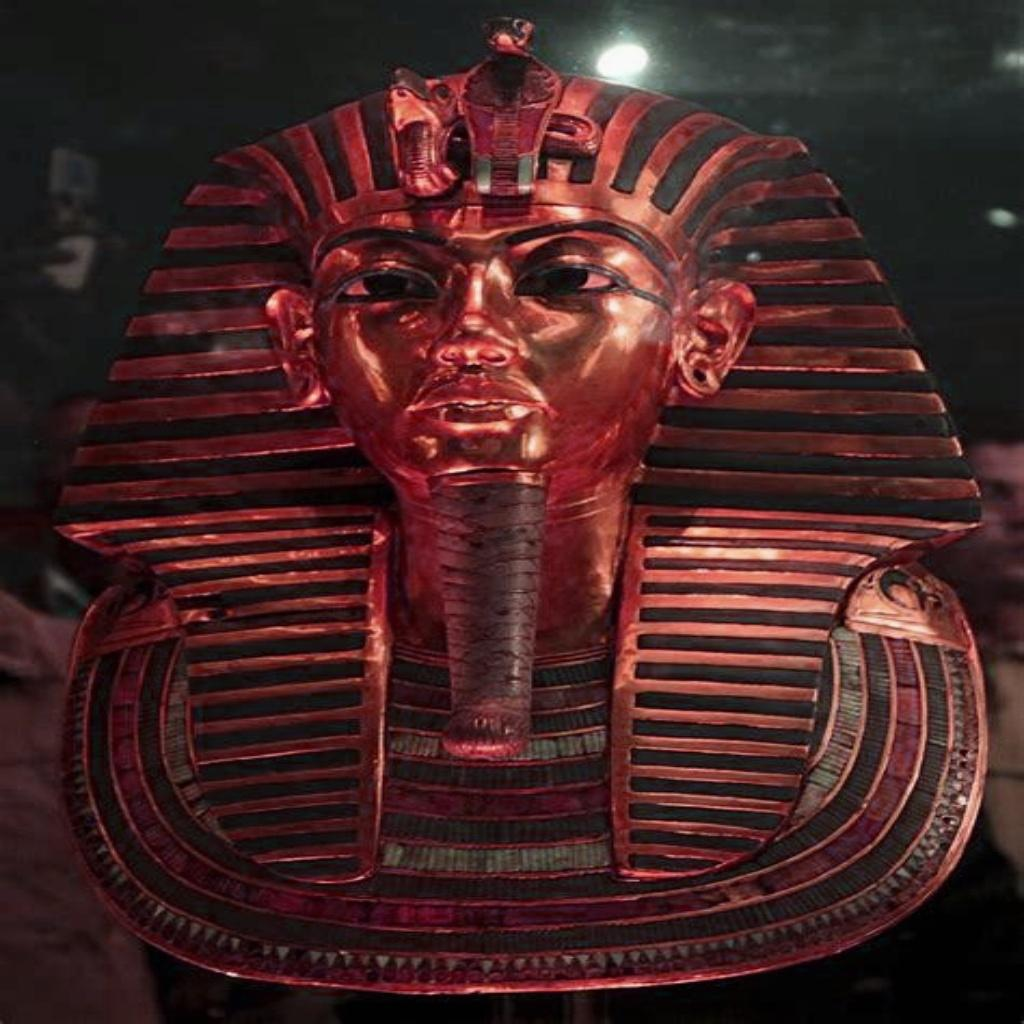Mask of Tutankhamun: (48, 17, 994, 996)
